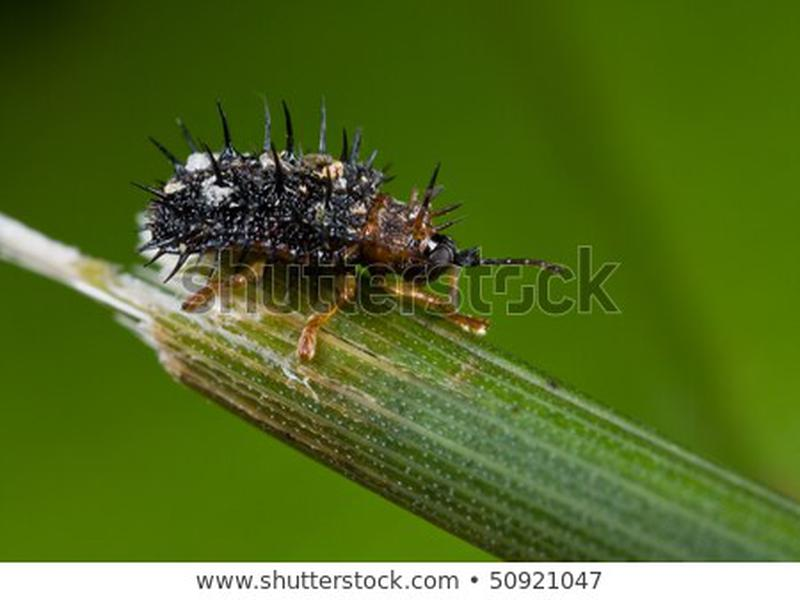Spiny_beetle: (124, 144, 497, 318)
